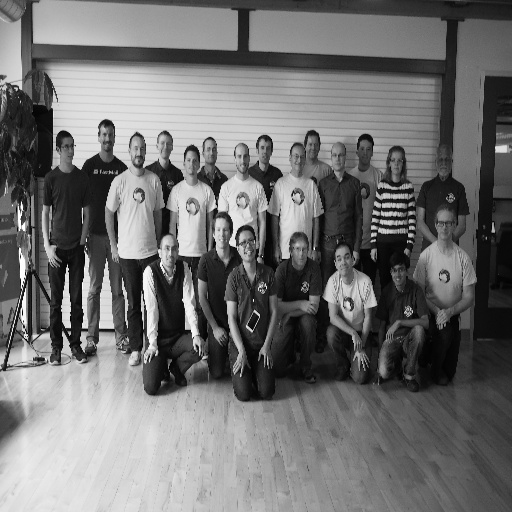hand: (232, 346, 252, 378), (351, 346, 370, 371), (44, 243, 62, 268), (258, 344, 273, 370), (384, 320, 400, 344), (192, 333, 207, 358), (300, 299, 319, 316), (213, 326, 228, 347), (276, 312, 290, 333), (435, 308, 452, 325), (143, 347, 159, 364), (368, 367, 382, 386), (271, 246, 282, 268), (433, 308, 444, 330), (351, 331, 362, 352), (110, 242, 120, 263), (310, 249, 319, 266), (351, 249, 360, 266), (368, 247, 378, 262), (83, 237, 90, 254), (316, 249, 322, 264), (403, 247, 411, 258), (255, 256, 264, 264)
